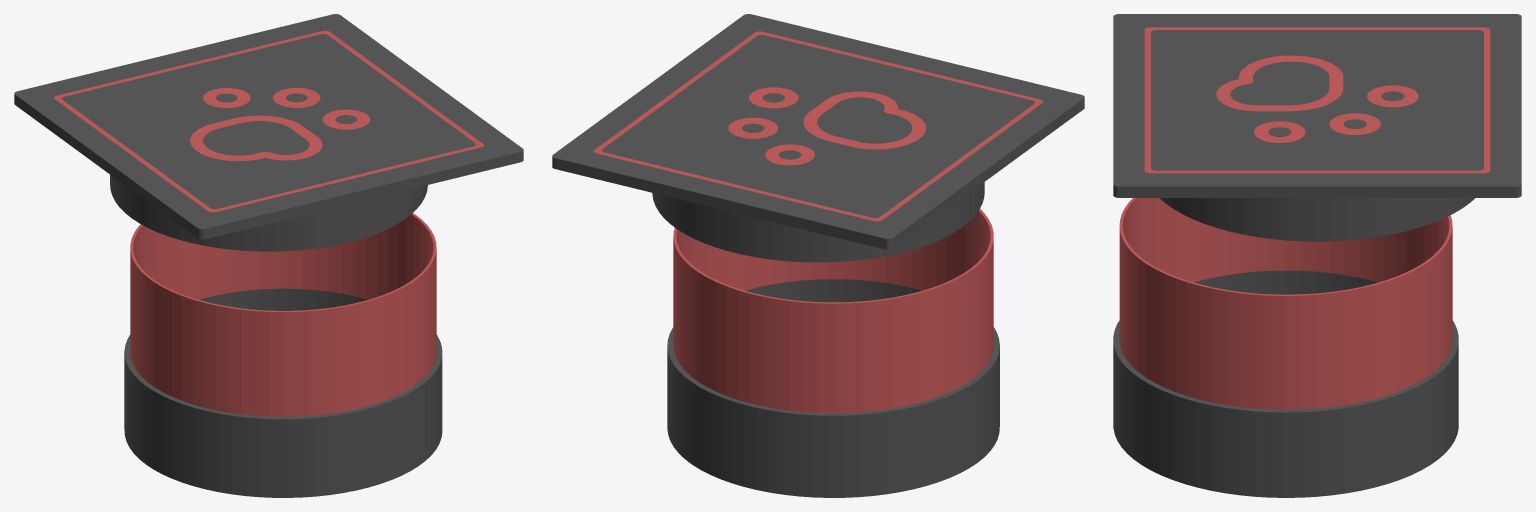
File: bomboniera-veterinaria-facolta-aperto.glb
The picture shows the model from 3 angles, left to right: view 1: azimuth 30°, elevation 25°; view 2: azimuth 150°, elevation 25°; view 3: azimuth 270°, elevation 25°; orthographic projection. The views are drawn at different scales.
Parts seen in each view (by area): view 1: struttura_coperchio, fascia, struttura_base, simbolo_intarsio, bordo; view 2: struttura_coperchio, fascia, struttura_base, simbolo_intarsio, bordo; view 3: struttura_coperchio, fascia, struttura_base, simbolo_intarsio, bordo.
Part boxes in pixels (x1=…): struttura_coperchio: x1=14, y1=14, x2=523, y2=251; fascia: x1=130, y1=213, x2=436, y2=416; struttura_base: x1=124, y1=288, x2=442, y2=497; simbolo_intarsio: x1=190, y1=88, x2=370, y2=161; bordo: x1=54, y1=30, x2=483, y2=212; struttura_coperchio: x1=552, y1=14, x2=1084, y2=262; fascia: x1=673, y1=209, x2=993, y2=413; struttura_base: x1=667, y1=279, x2=999, y2=497; simbolo_intarsio: x1=728, y1=87, x2=925, y2=165; bordo: x1=593, y1=31, x2=1043, y2=221; struttura_coperchio: x1=1113, y1=14, x2=1521, y2=241; fascia: x1=1119, y1=198, x2=1452, y2=409; struttura_base: x1=1113, y1=270, x2=1458, y2=497; simbolo_intarsio: x1=1216, y1=55, x2=1418, y2=142; bordo: x1=1144, y1=27, x2=1490, y2=173.
Size of the model in its own units: 0.065 by 0.057 by 0.065.
